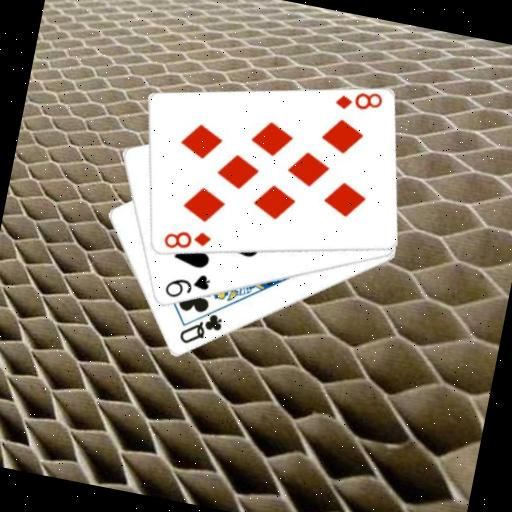8D: (159, 222, 214, 258), (331, 83, 386, 118)
9S: (160, 265, 214, 306)
QC: (174, 305, 226, 352)
